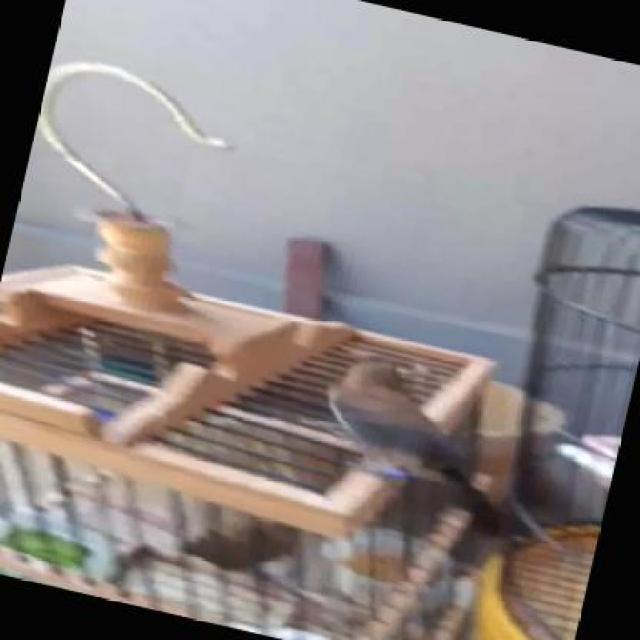Bird: (328, 347, 496, 547)
